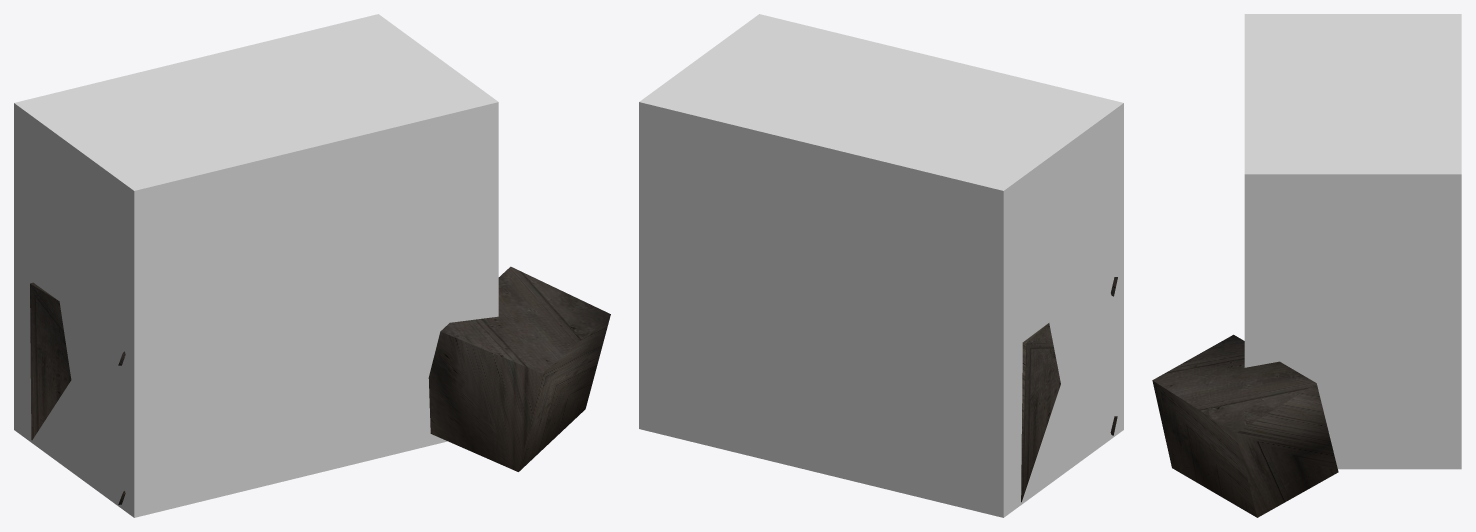
The model's file is prop_crate_stack_tex.glb.
The picture shows the model from 3 angles, left to right: view 1: azimuth 30°, elevation 25°; view 2: azimuth 150°, elevation 25°; view 3: azimuth 270°, elevation 25°; orthographic projection. The views are drawn at different scales.
Parts seen in each view (by area): view 1: col_crates, crates; view 2: col_crates, crates; view 3: col_crates, crates.
Boxes of the visible parts, x1=… form: col_crates: x1=14, y1=14, x2=498, y2=517; crates: x1=30, y1=266, x2=610, y2=504; col_crates: x1=639, y1=14, x2=1123, y2=517; crates: x1=1021, y1=277, x2=1117, y2=502; col_crates: x1=1244, y1=14, x2=1461, y2=469; crates: x1=1152, y1=334, x2=1338, y2=517.
Bounding box in the file's own units: 1.83 × 1.23 × 1.14.
Materials: 2 (2 with a texture image).
